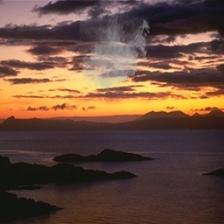fire: (79, 9, 152, 95)
